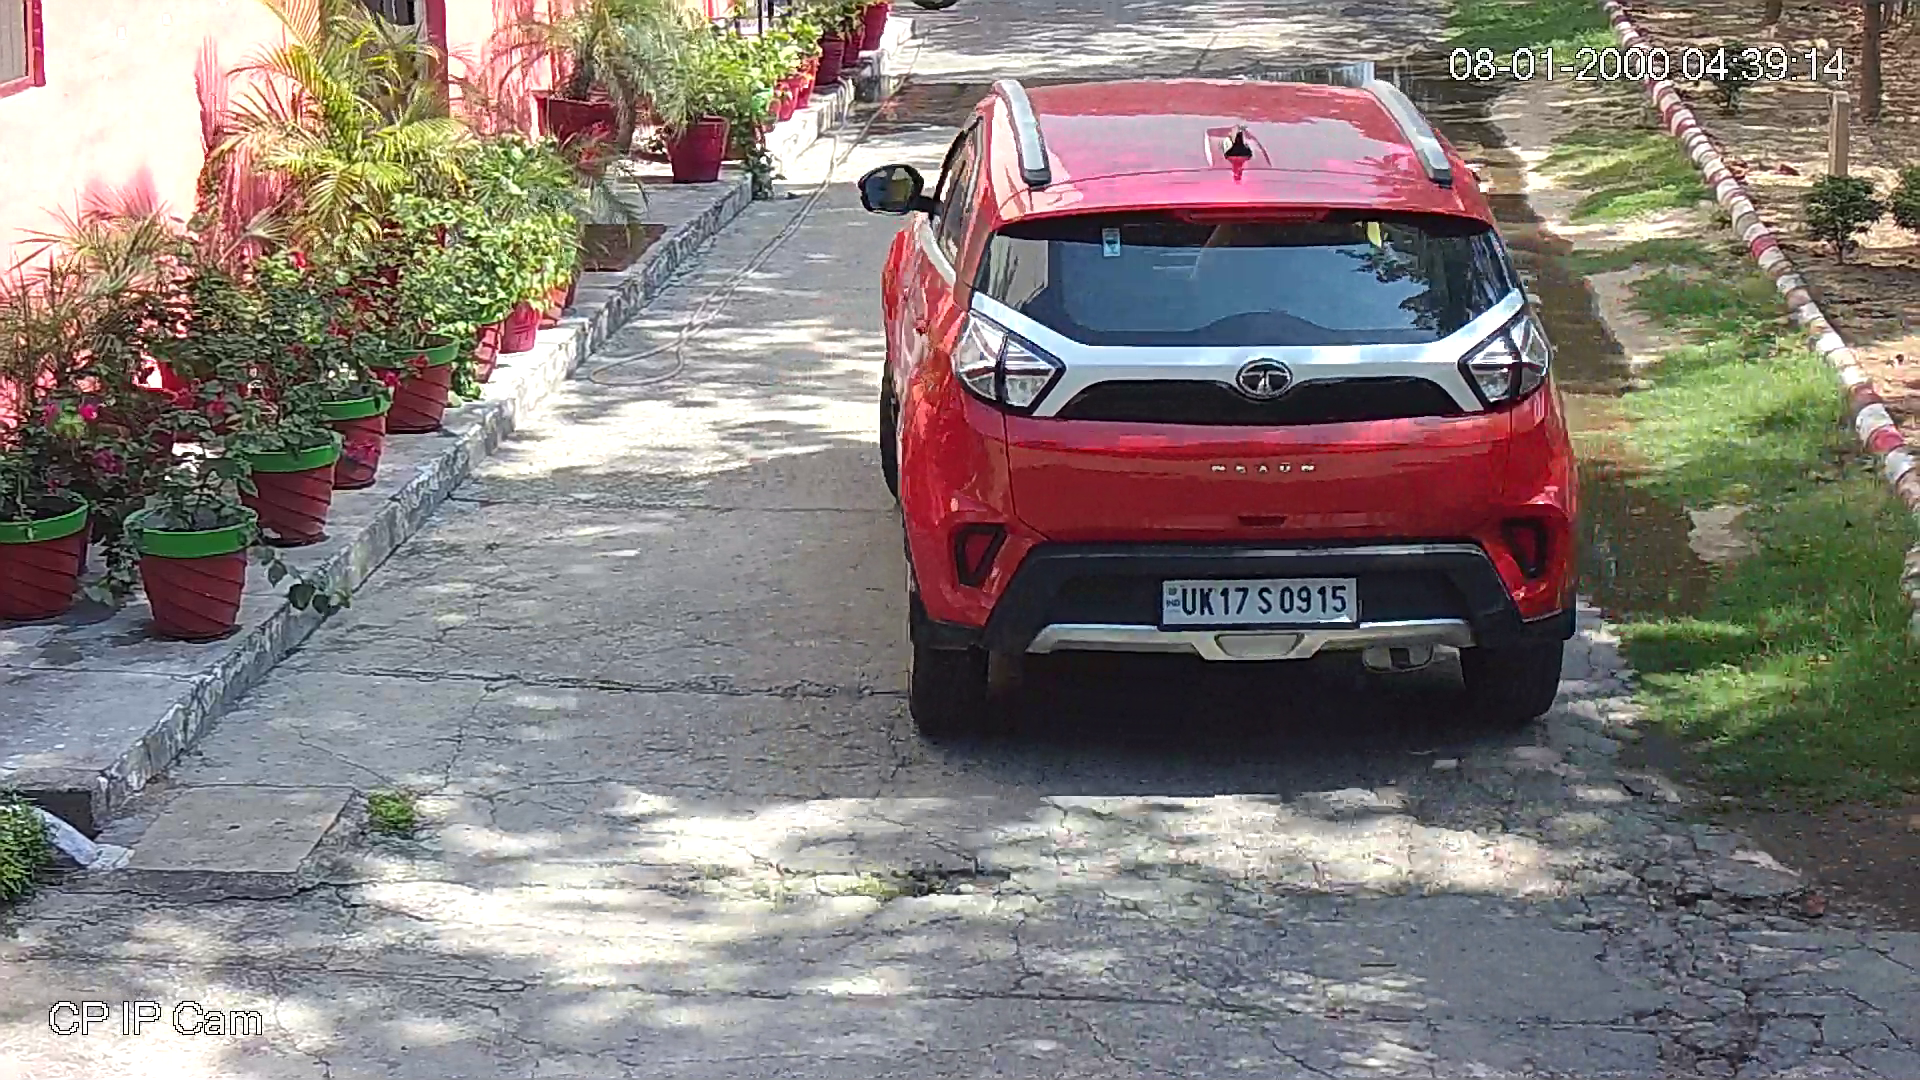plate: (1161, 576, 1359, 629)
